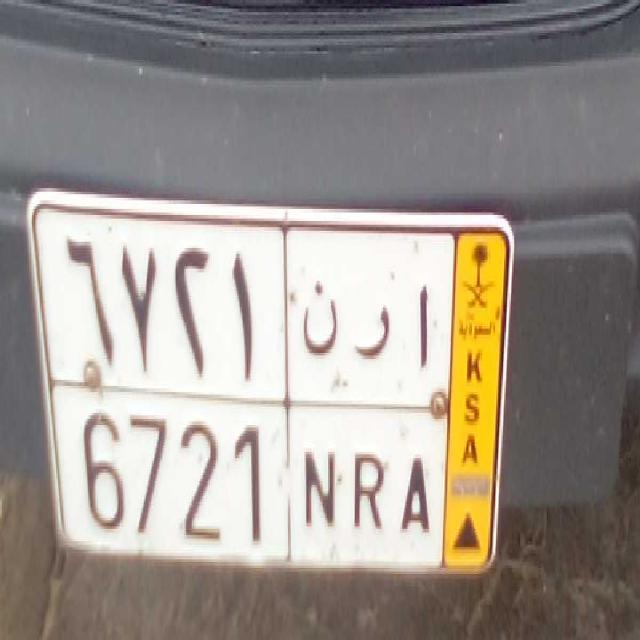license_plate: (49, 379, 443, 570)
